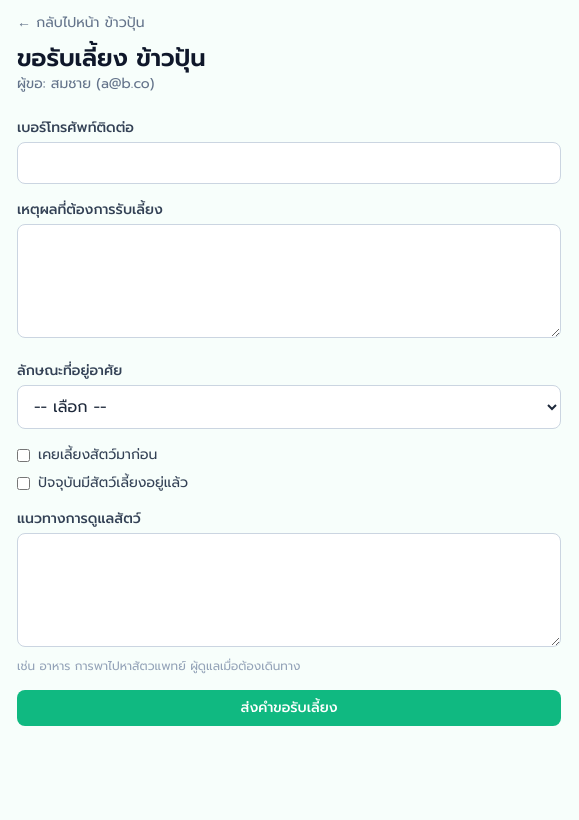
it: กรอกไม่ครบแล้วกดส่ง ต้องเห็นข้อความเตือนและไม่เรียก API
Expected: the heading "ขอรับเลี้ยง ข้าวปุ้น" is shown, left=17, top=40, right=205, bottom=76
Click the button "ส่งคำขอรับเลี้ยง". click: {"x": 289, "y": 708}
box: left=17, top=690, right=561, bottom=726
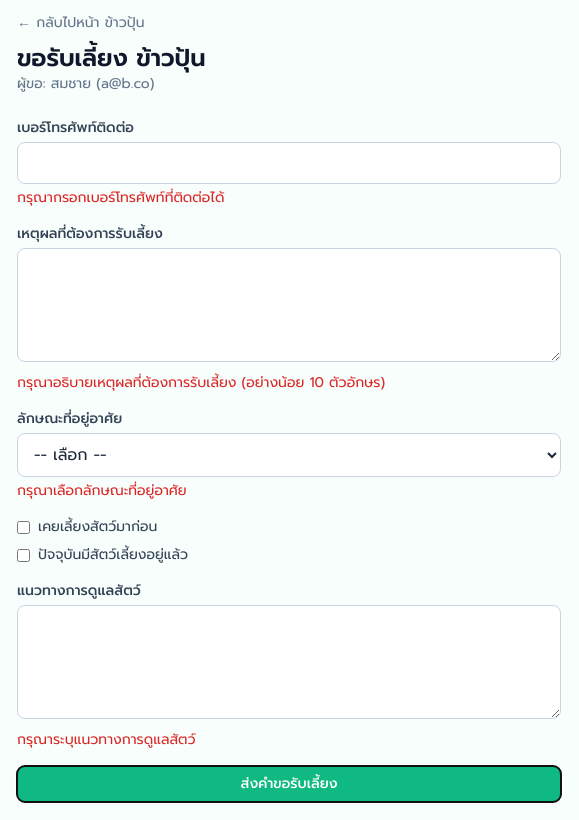
Expected: the text "กรุณาเลือกลักษณะที่อยู่อาศัย" is shown, left=17, top=480, right=187, bottom=501
